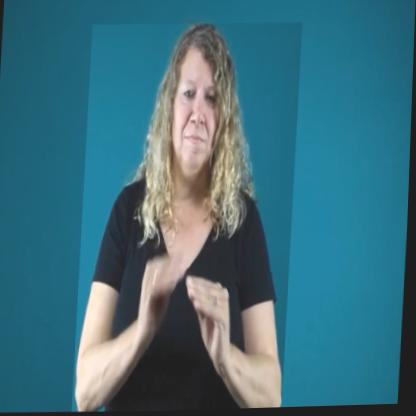Fix: (74, 20, 301, 414)
